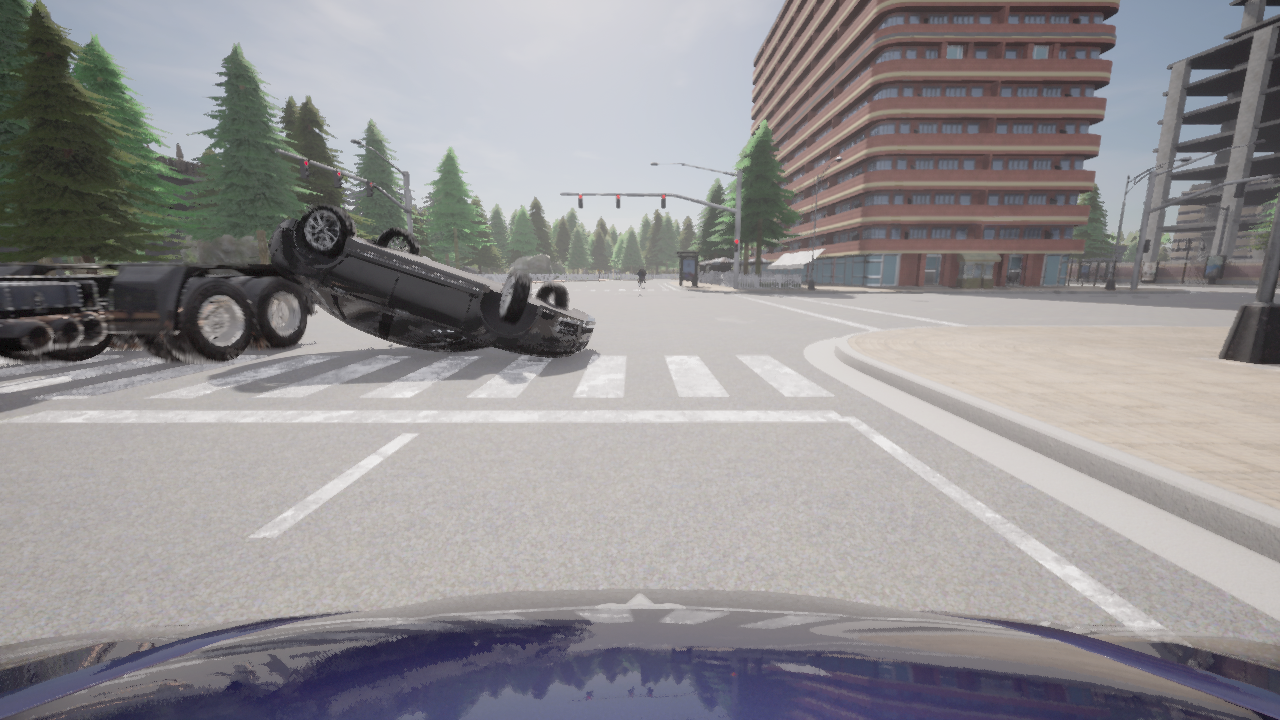cyclist: (0, 588, 1279, 719), (268, 205, 596, 356), (0, 263, 317, 363), (637, 278, 641, 288), (642, 277, 643, 279)
